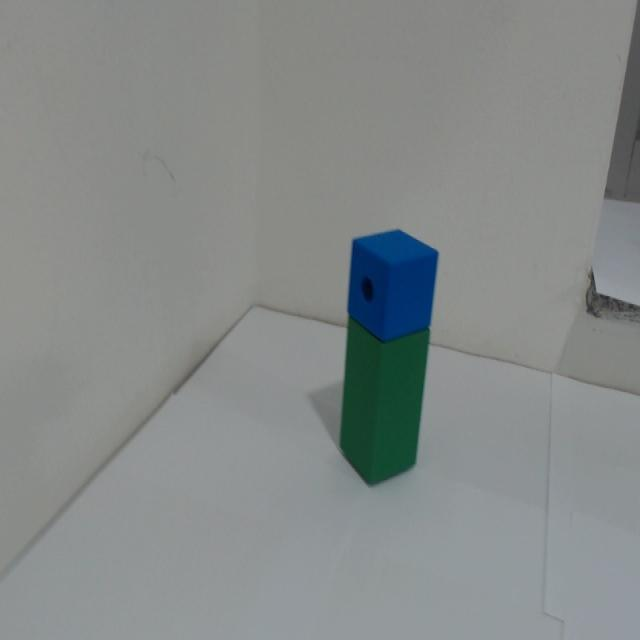cube: (335, 324, 442, 516), (335, 207, 451, 347)
